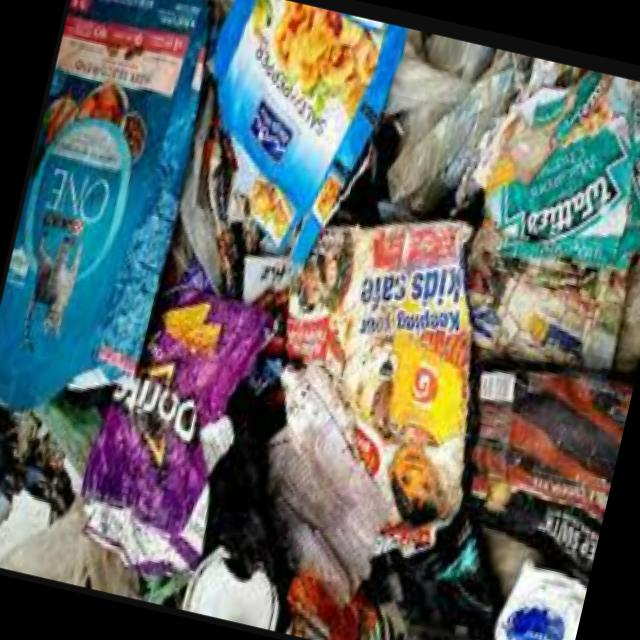KemasanPlastik: (232, 198, 518, 560), (0, 0, 223, 441), (65, 253, 269, 597), (166, 0, 398, 287), (455, 37, 640, 285)
